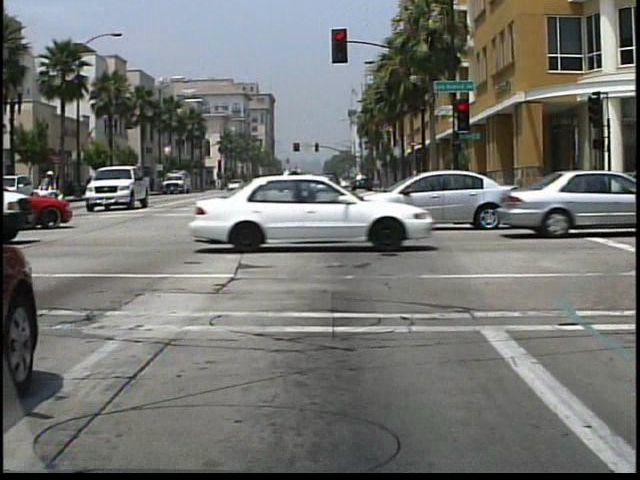person: (39, 167, 65, 214)
